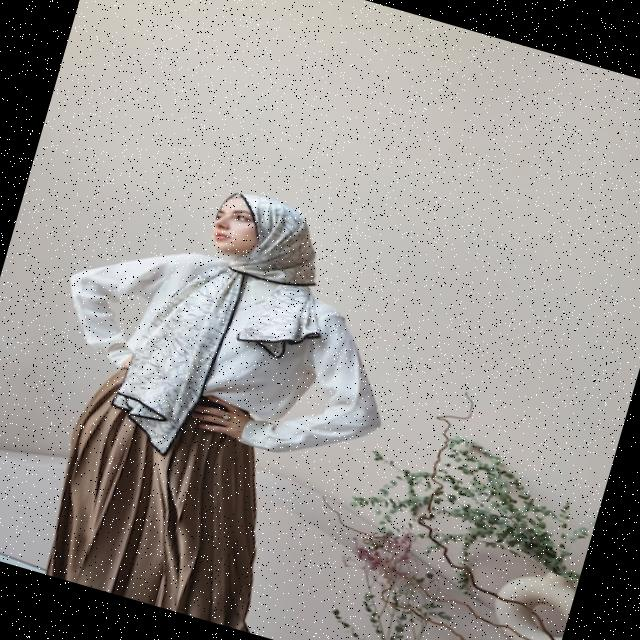Person: (0, 147, 430, 640)
